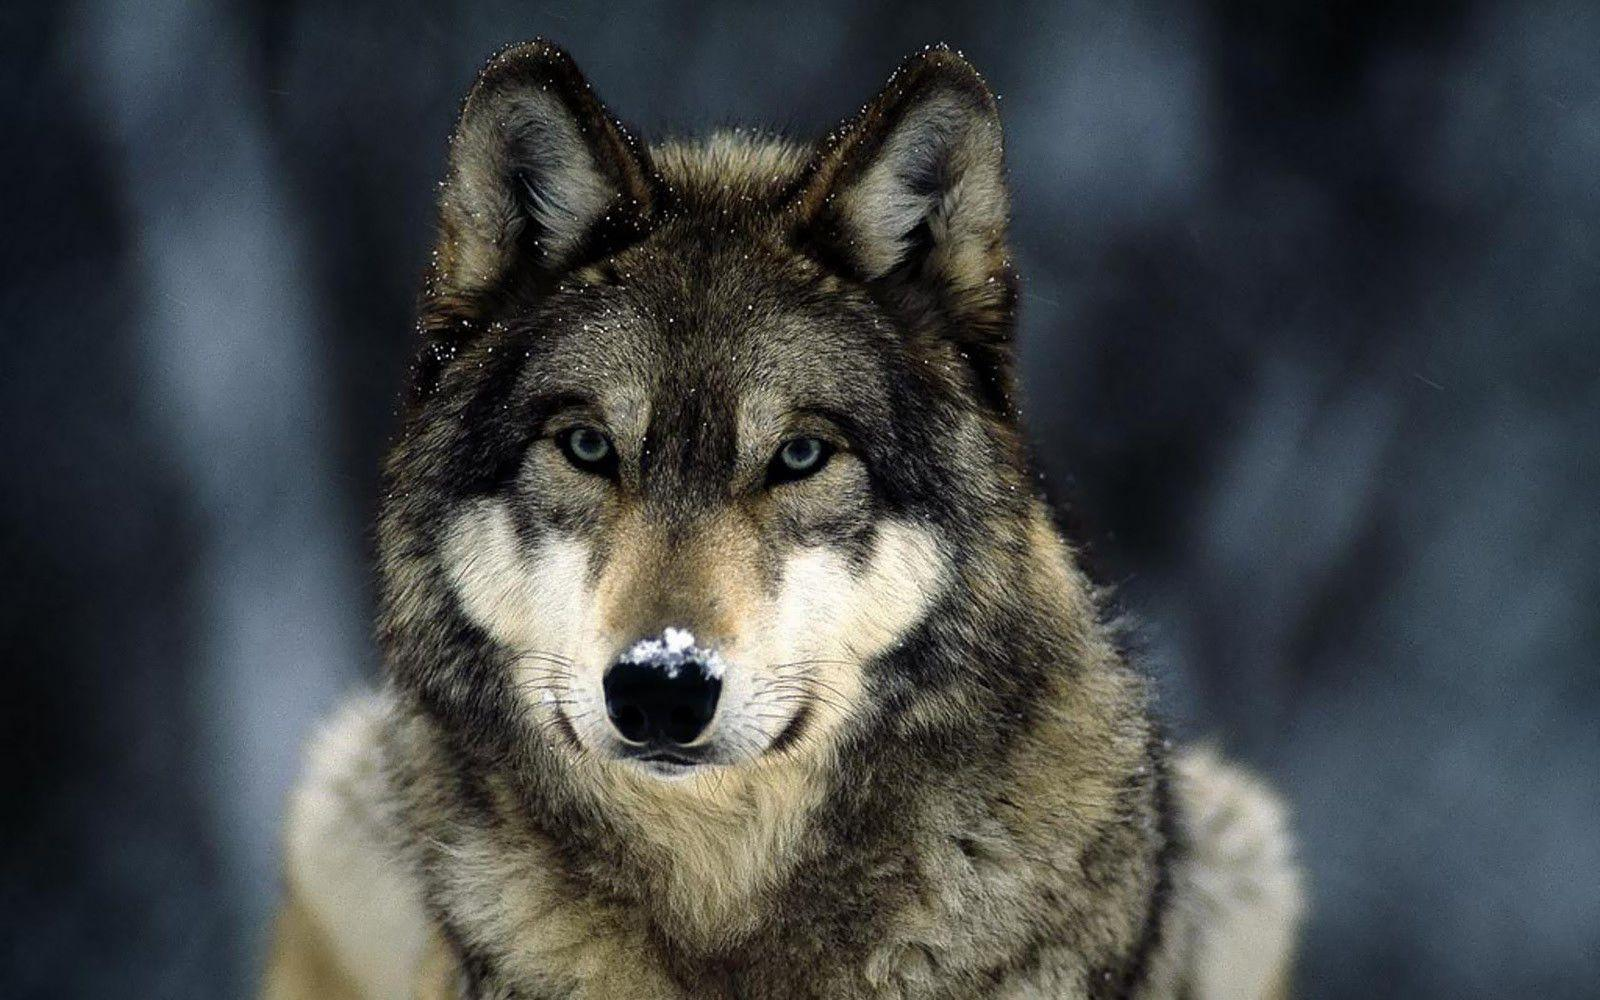Lobo: (281, 9, 1246, 988)
